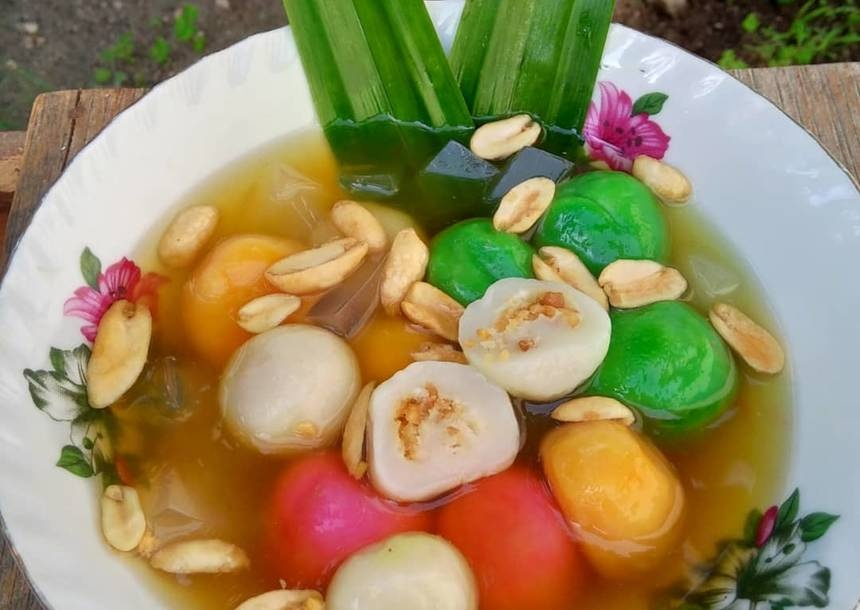ronde: (98, 142, 782, 610)
